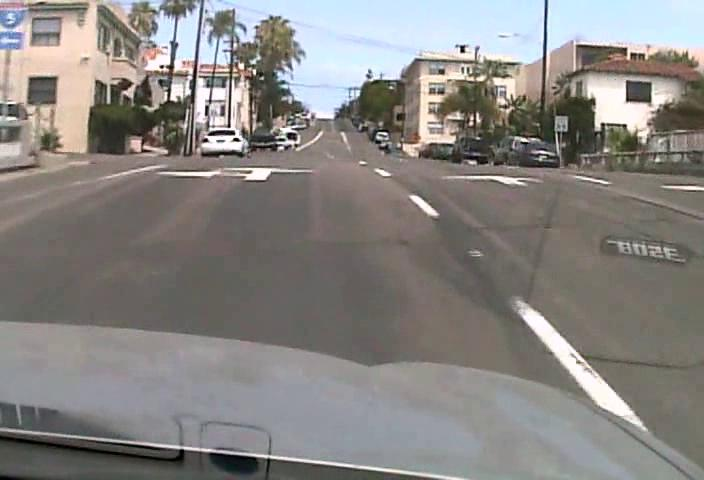speedLimitUrdbl: (553, 114, 569, 133)
